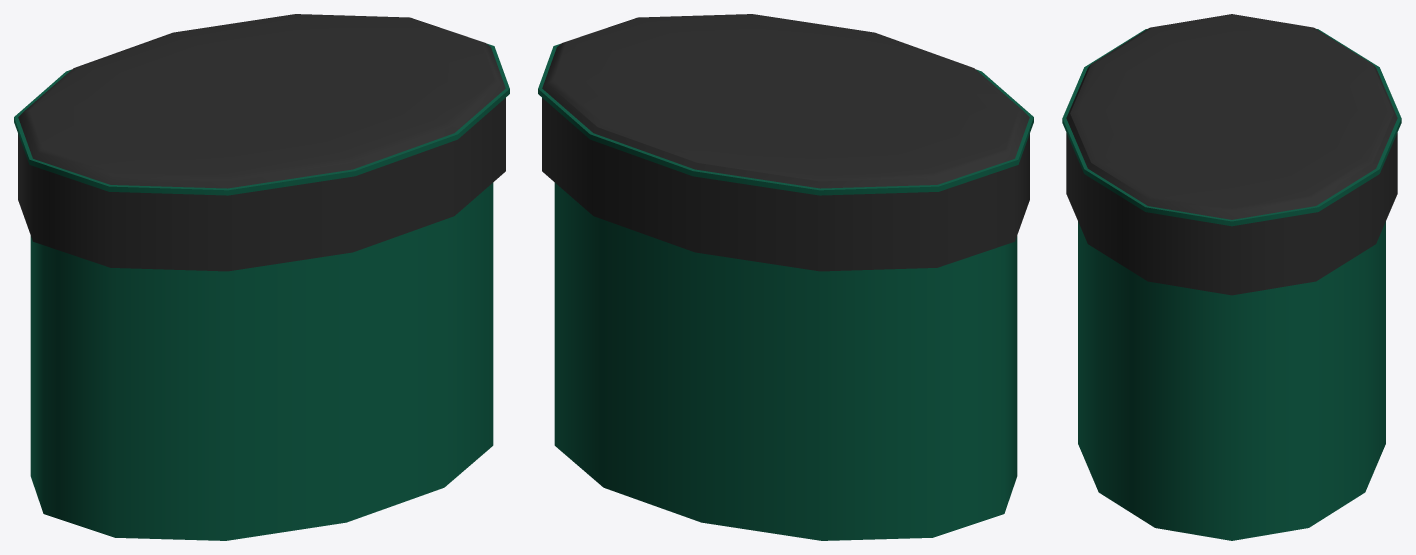
The model's file is Otoman.fbx.
The picture shows the model from 3 angles, left to right: view 1: azimuth 30°, elevation 25°; view 2: azimuth 150°, elevation 25°; view 3: azimuth 270°, elevation 25°; orthographic projection. The views are drawn at different scales.
Parts seen in each view (by area): view 1: pCylinder4; view 2: pCylinder4; view 3: pCylinder4.
Boxes of the visible parts, x1,y1,x2,y2 form: pCylinder4: (14, 14, 509, 540); pCylinder4: (538, 14, 1033, 540); pCylinder4: (1062, 14, 1401, 540).
Size of the model in its own units: 37.11 by 27.99 by 25.75.
